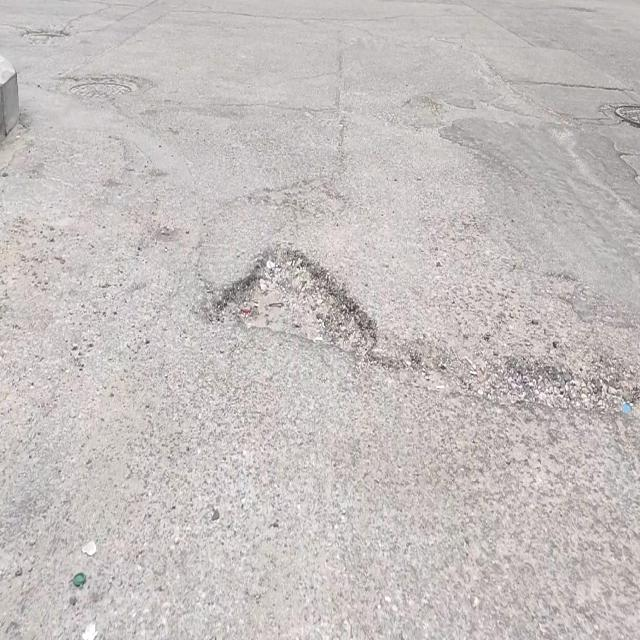Potholes: (221, 247, 377, 361)
